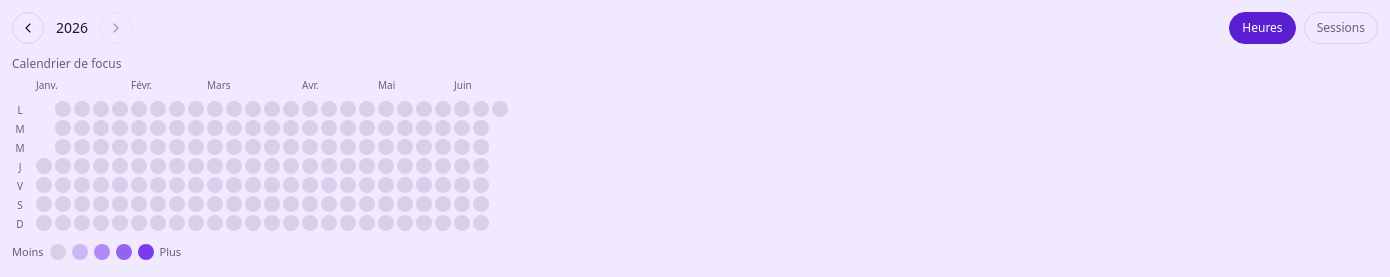
Test: CalendarSection — navigation par année civile et unité heures / sessions (§9) › revenir en avant ramène sur l’année en cours, de nouveau bloquée
Click the button named "Année précédente" at (28, 28), box left=12, top=12, right=44, bottom=44
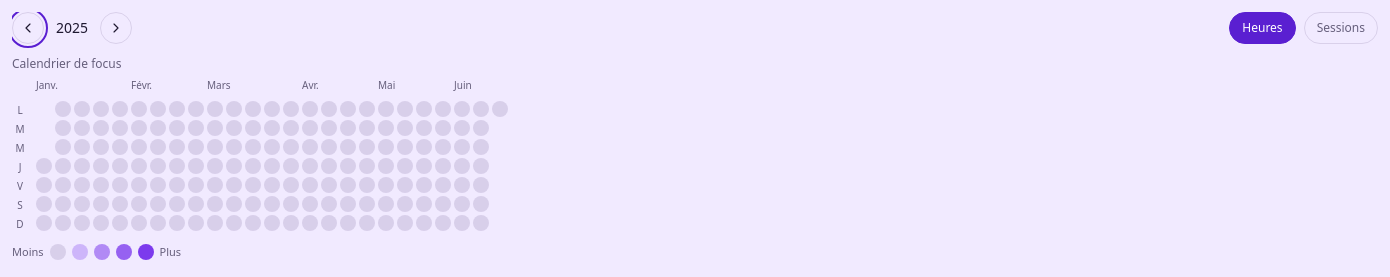
Click the button named "Année suivante" at (116, 28), box left=100, top=12, right=132, bottom=44
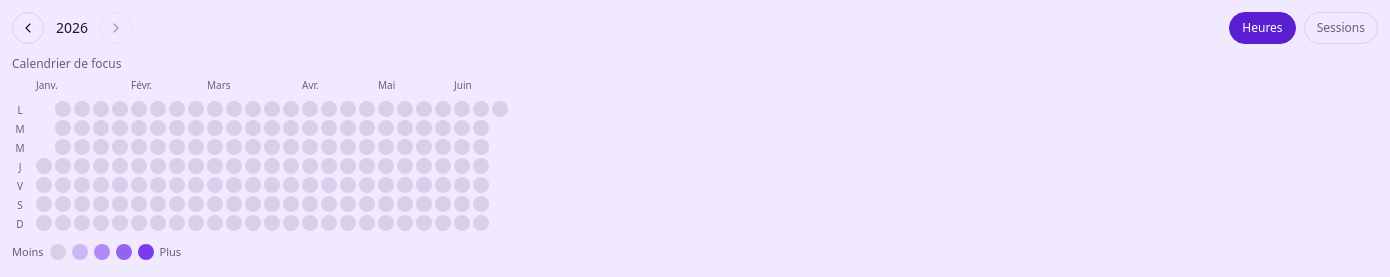
Now the text "2026" is shown, box left=56, top=18, right=88, bottom=37
